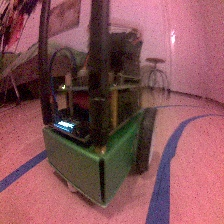rob: (40, 31, 159, 208)
